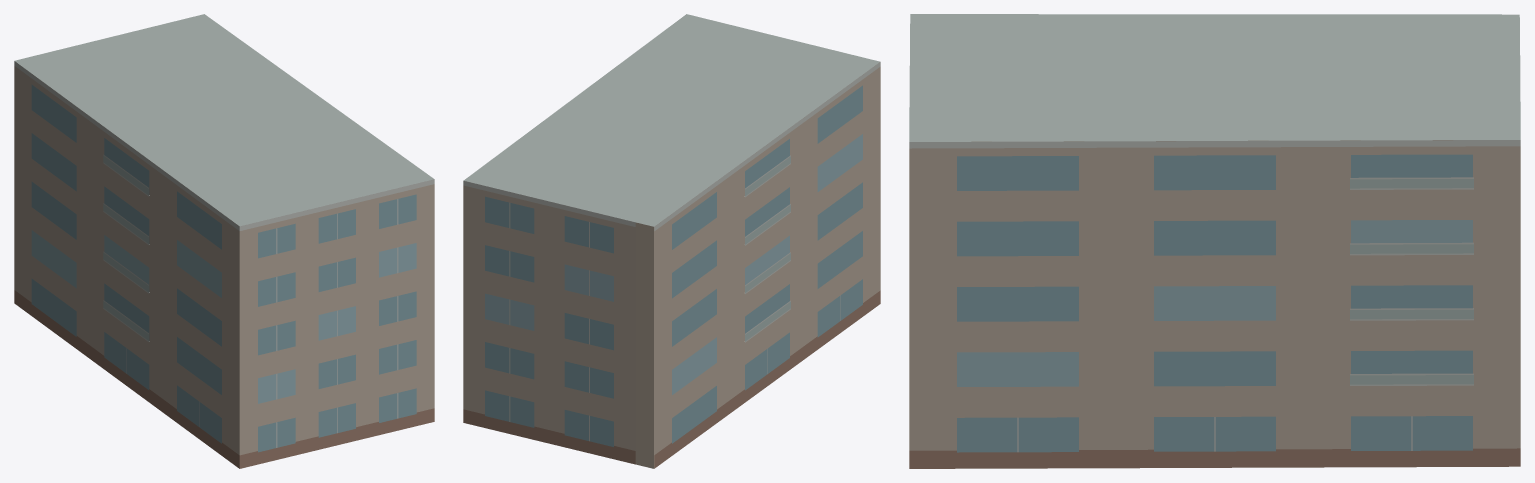
The model's file is survey-upis-32631365.glb.
3 views of the same model, side by side, from view 1: azimuth 30°, elevation 25°; view 2: azimuth 150°, elevation 25°; view 3: azimuth 270°, elevation 25° (orthographic). The views are drawn at different scales.
Visible parts, largest first — view 1: survey-upis-32631365.tmp; view 2: survey-upis-32631365.tmp; view 3: survey-upis-32631365.tmp.
Boxes of the visible parts, x1,y1,x2,y2 form: survey-upis-32631365.tmp: (14, 14, 434, 468); survey-upis-32631365.tmp: (463, 14, 880, 468); survey-upis-32631365.tmp: (909, 14, 1520, 468).
Size of the model in its own units: 10.36 by 12.3 by 20.87.
